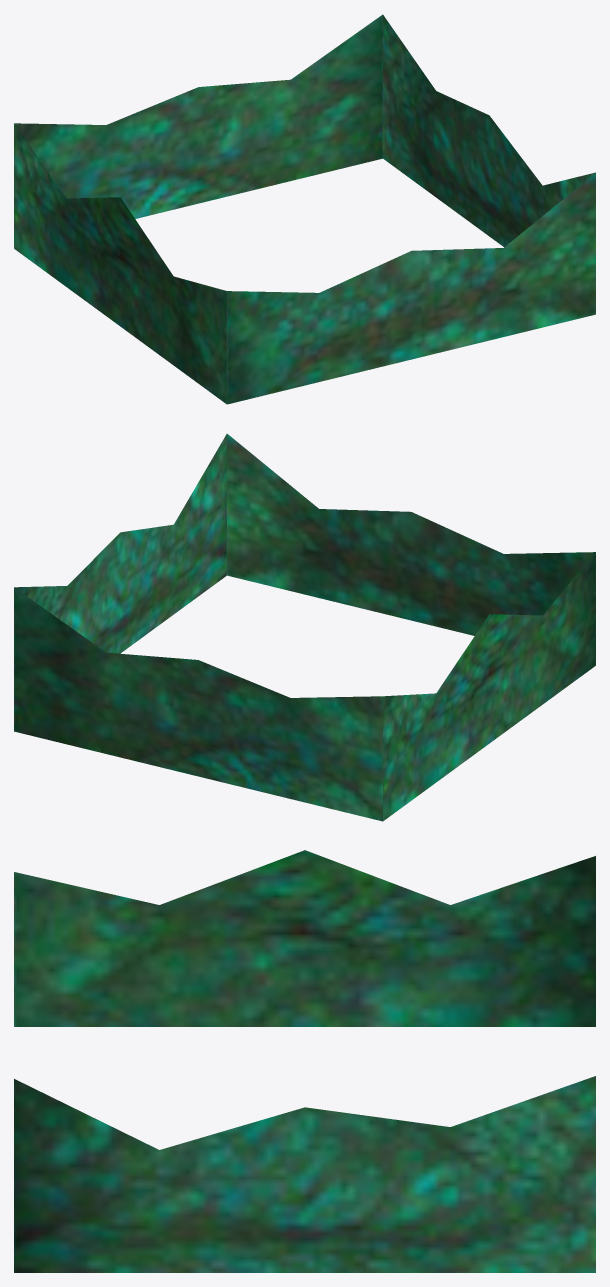
The model's file is Bushes.fbx.
3 renders of one model, top to bottom at view 1: azimuth 30°, elevation 25°; view 2: azimuth 150°, elevation 25°; view 3: azimuth 270°, elevation 25°, orthographic. The views are drawn at different scales.
Visible parts, largest first — view 1: Cube.002; view 2: Cube.002; view 3: Cube.002.
Boxes of the visible parts, x1,y1,x2,y2 form: Cube.002: [14, 14, 595, 404]; Cube.002: [14, 433, 595, 821]; Cube.002: [14, 850, 595, 1272].
Size of the model in its own units: 19227 by 7182 by 19227.
